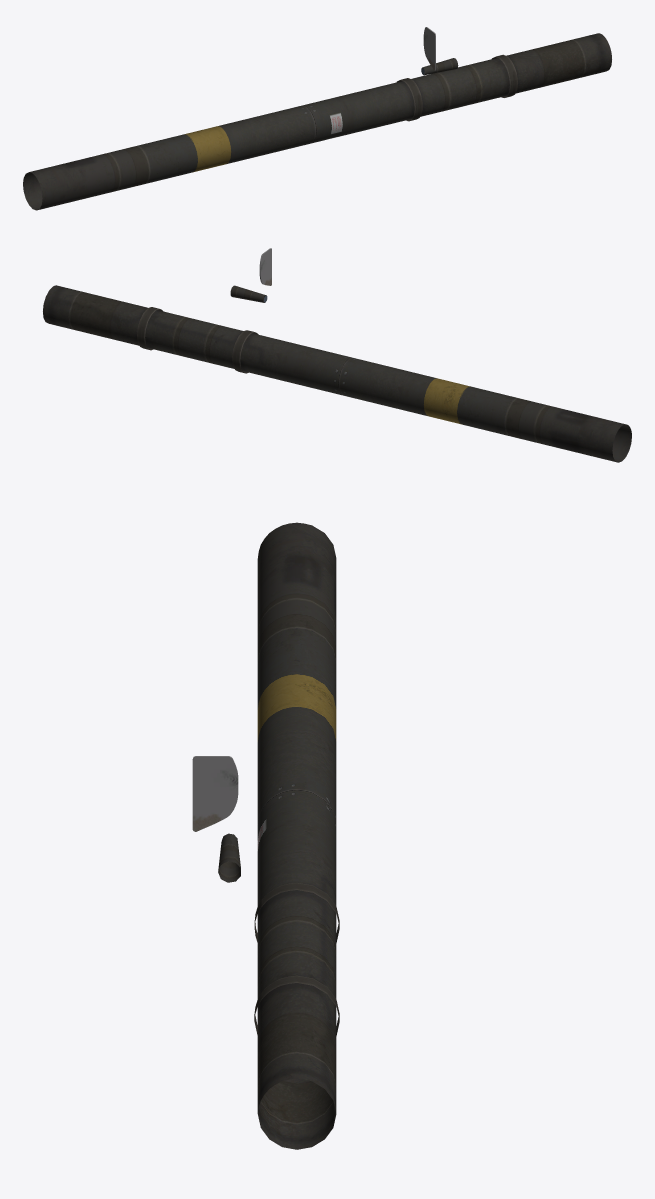
File: viewmodel_stinger_LOD0.obj
3 renders of one model, top to bottom at view 1: azimuth 30°, elevation 25°; view 2: azimuth 150°, elevation 25°; view 3: azimuth 270°, elevation 25°, orthographic. The views are drawn at different scales.
Parts seen in each view (by area): view 1: mtl_weapon_stinger, mtl_weapon_stinger_glass; view 2: mtl_weapon_stinger, mtl_weapon_stinger_glass; view 3: mtl_weapon_stinger, mtl_weapon_stinger_glass.
Boxes of the visible parts, x1,y1,x2,y2 form: mtl_weapon_stinger: [23, 33, 611, 210]; mtl_weapon_stinger_glass: [421, 27, 435, 74]; mtl_weapon_stinger: [43, 285, 631, 462]; mtl_weapon_stinger_glass: [259, 248, 271, 302]; mtl_weapon_stinger: [218, 522, 339, 1149]; mtl_weapon_stinger_glass: [192, 756, 238, 831].
Bounding box in the file's own units: 165 × 29.42 × 33.17.
2 materials, 2 textured.
